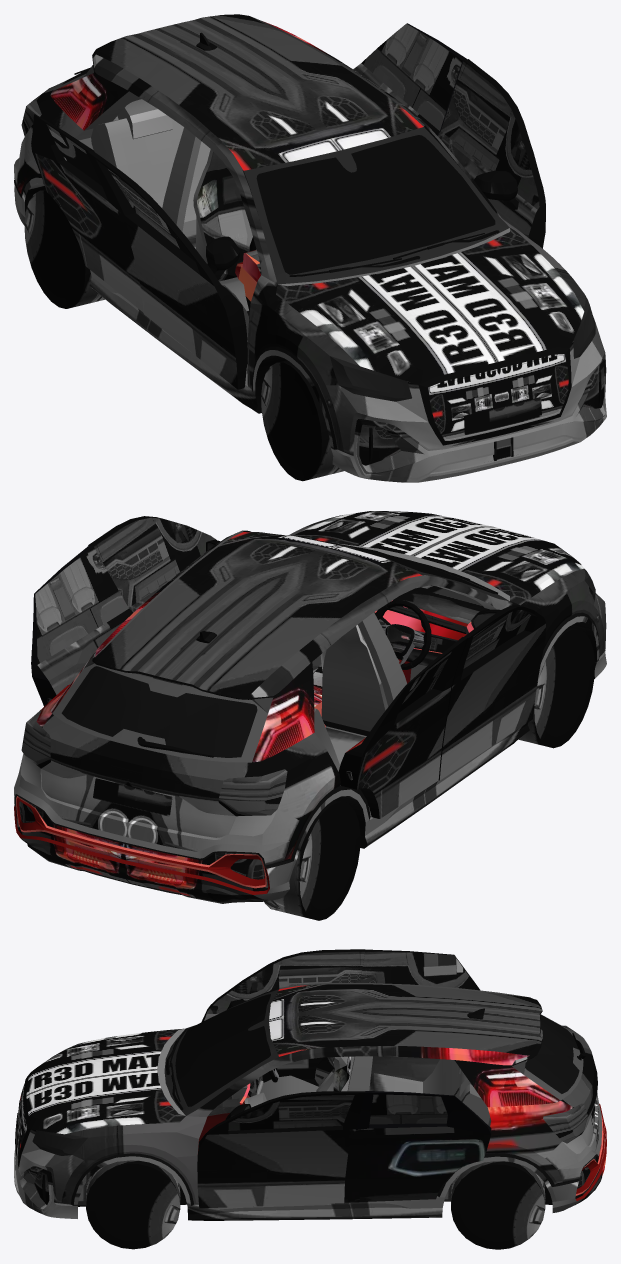
The model's file is Car_SUV.glb.
The picture shows the model from 3 angles, top to bottom: view 1: azimuth 30°, elevation 25°; view 2: azimuth 150°, elevation 25°; view 3: azimuth 270°, elevation 25°; orthographic projection. The views are drawn at different scales.
Visible parts, largest first — view 1: Car_SUV; view 2: Car_SUV; view 3: Car_SUV.
Boxes of the visible parts, <box> form: Car_SUV: <box>14,14,606,482</box>; Car_SUV: <box>14,511,606,920</box>; Car_SUV: <box>14,949,606,1249</box>.
Size of the model in its own units: 22.33 by 13.68 by 38.9.
3 materials, 3 textured.
